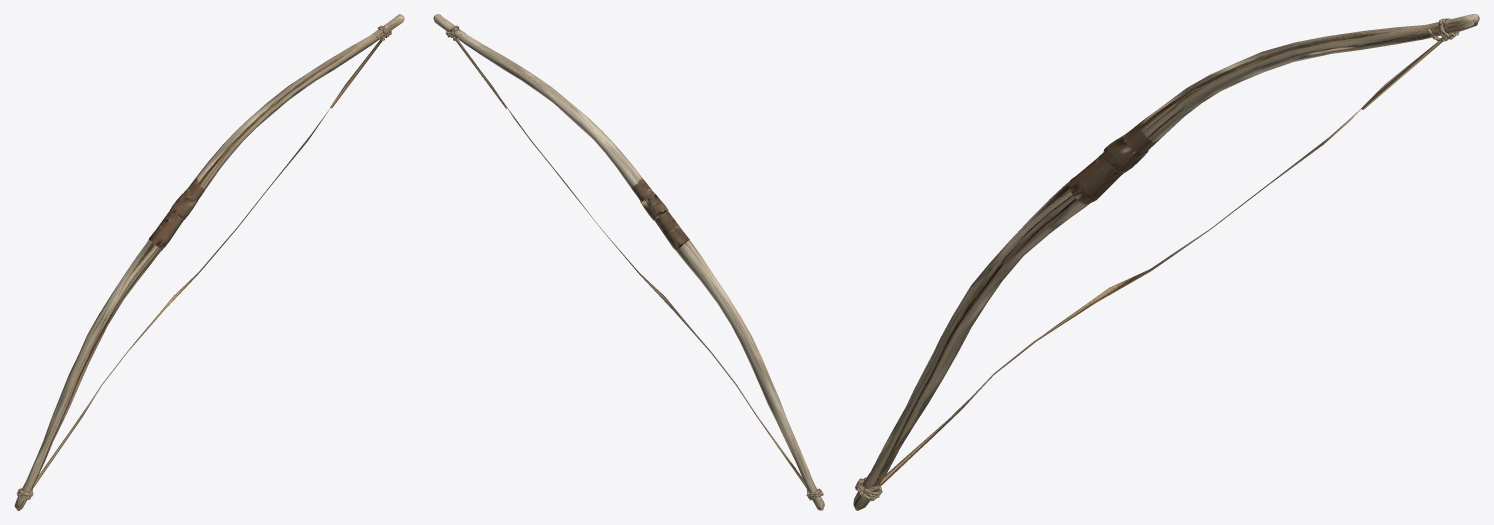
File: hunting_bow.glb
3 renders of one model, left to right at view 1: azimuth 30°, elevation 25°; view 2: azimuth 150°, elevation 25°; view 3: azimuth 330°, elevation 25°, orthographic. The views are drawn at different scales.
Visible parts, largest first — view 1: Mesh_0; view 2: Mesh_0; view 3: Mesh_0.
Part boxes in pixels (x1,y1,x2,y2): Mesh_0: (14,14,404,510); Mesh_0: (433,14,824,510); Mesh_0: (853,14,1479,510).
Size of the model in its own units: 1.2 by 1.19 by 0.045.
1 material, 1 textured.
